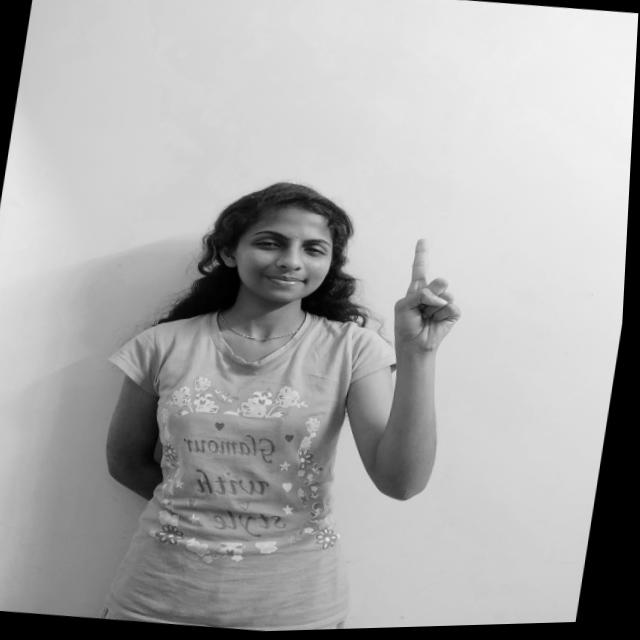Question: (377, 222, 482, 380)
